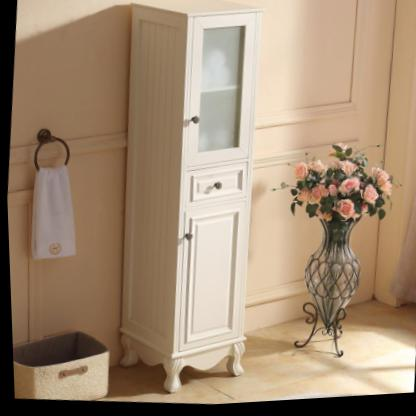Cupboard: (116, 7, 264, 395)
